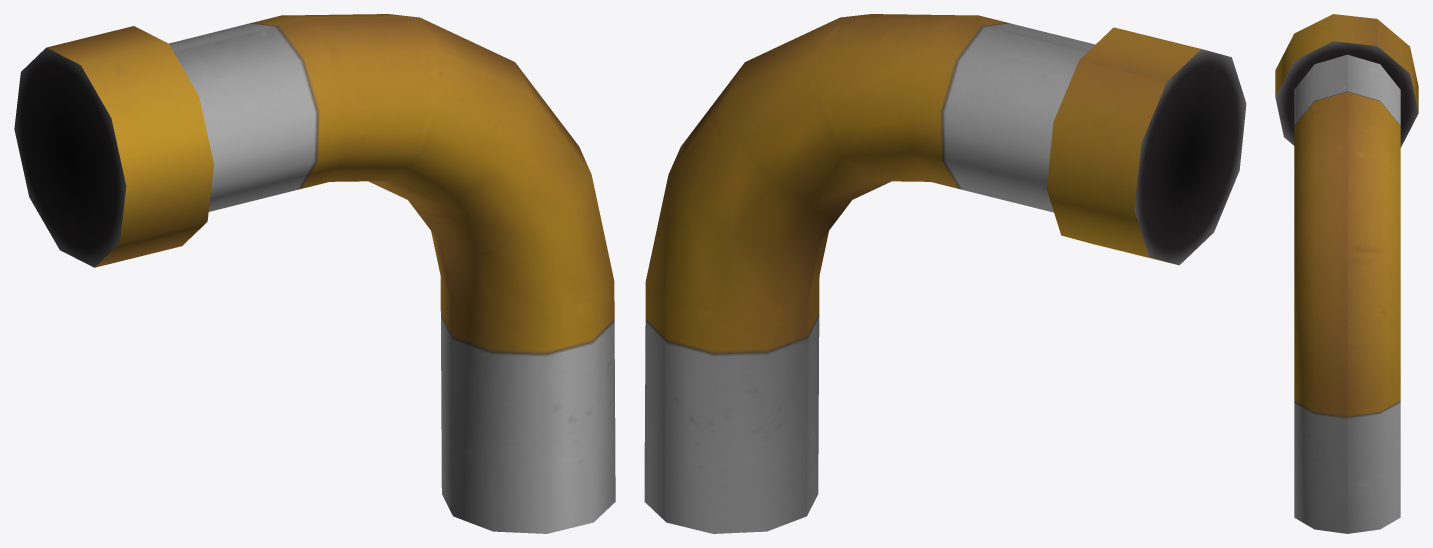
File: Pipe_AngleOutShort_01.FBX
3 renders of one model, left to right at view 1: azimuth 30°, elevation 25°; view 2: azimuth 150°, elevation 25°; view 3: azimuth 270°, elevation 25°, orthographic. The views are drawn at different scales.
Visible parts, largest first — view 1: Pipe_AngleOutShort_01; view 2: Pipe_AngleOutShort_01; view 3: Pipe_AngleOutShort_01.
Boxes of the visible parts, x1,y1,x2,y2 form: Pipe_AngleOutShort_01: [14, 14, 615, 533]; Pipe_AngleOutShort_01: [644, 14, 1246, 533]; Pipe_AngleOutShort_01: [1275, 14, 1418, 533].
Size of the model in its own units: 58.45 by 57.78 by 21.22.
